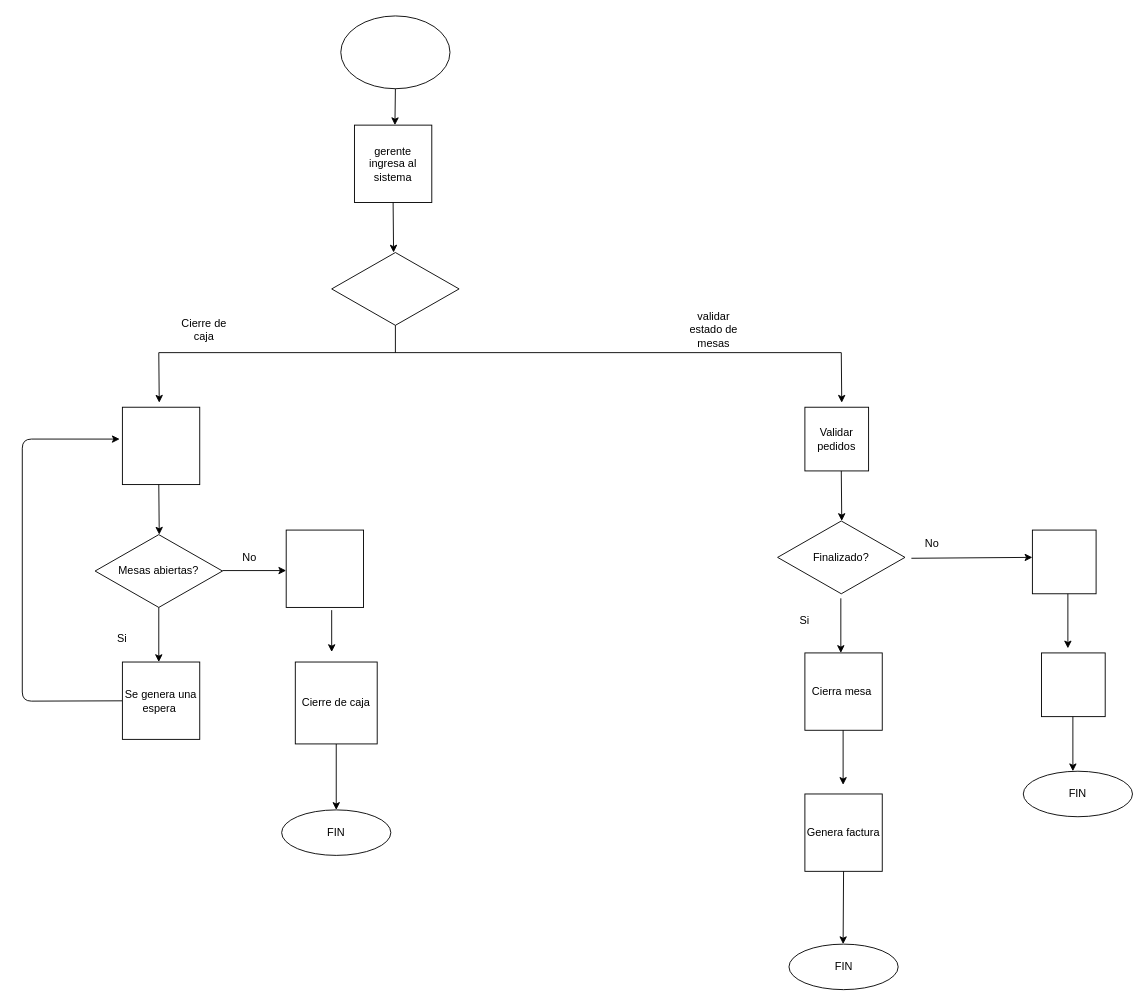
This 1148x1006 diagram has some shape labels left out. Each missing label, with the centre of its shape:
"Controla el estado del pedido por un tiempo" goes at point 1063,561.
"Emite reporte diario" goes at point 324,568.
"Envia mensaje cocina solicitando status" goes at point 1073,684.
"Modulo gerente" goes at point 395,52.
"Que accion precisa hacer?" goes at point 395,288.
"Valida estado de las mesas" goes at point 160,445.
